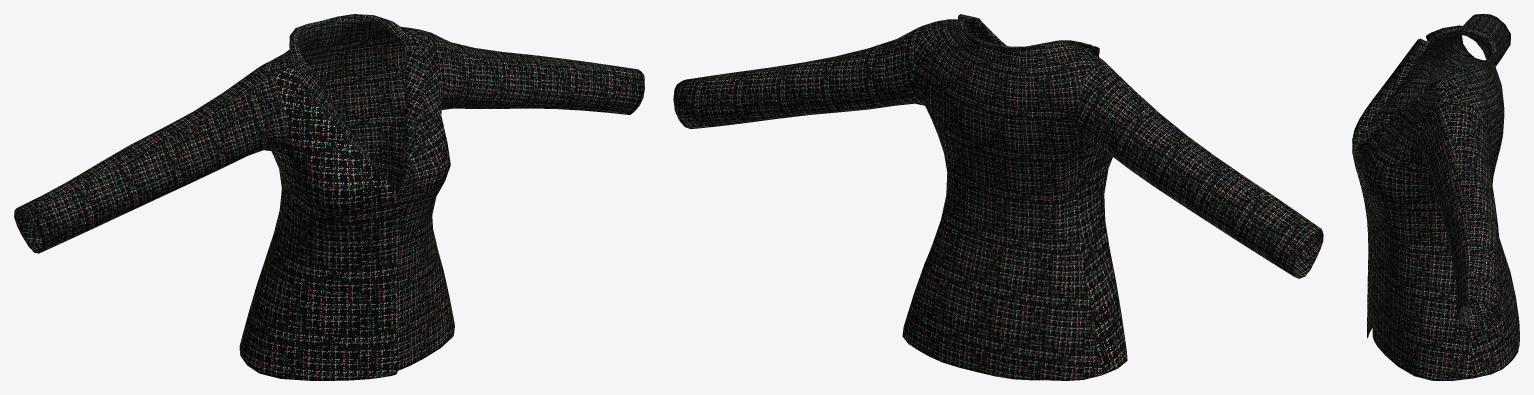
Rendered from demo_coat_only.glb.
The picture shows the model from 3 angles, left to right: view 1: azimuth 30°, elevation 25°; view 2: azimuth 150°, elevation 25°; view 3: azimuth 270°, elevation 25°; orthographic projection. The views are drawn at different scales.
Parts seen in each view (by area): view 1: Cube.003; view 2: Cube.003; view 3: Cube.003.
Part boxes in pixels (left/top/right/bottom): Cube.003: left=14, top=14, right=644, bottom=380; Cube.003: left=673, top=14, right=1323, bottom=380; Cube.003: left=1352, top=14, right=1519, bottom=380.
Size of the model in its own units: 1.27 by 0.609 by 0.3209.
1 material, 1 textured.
